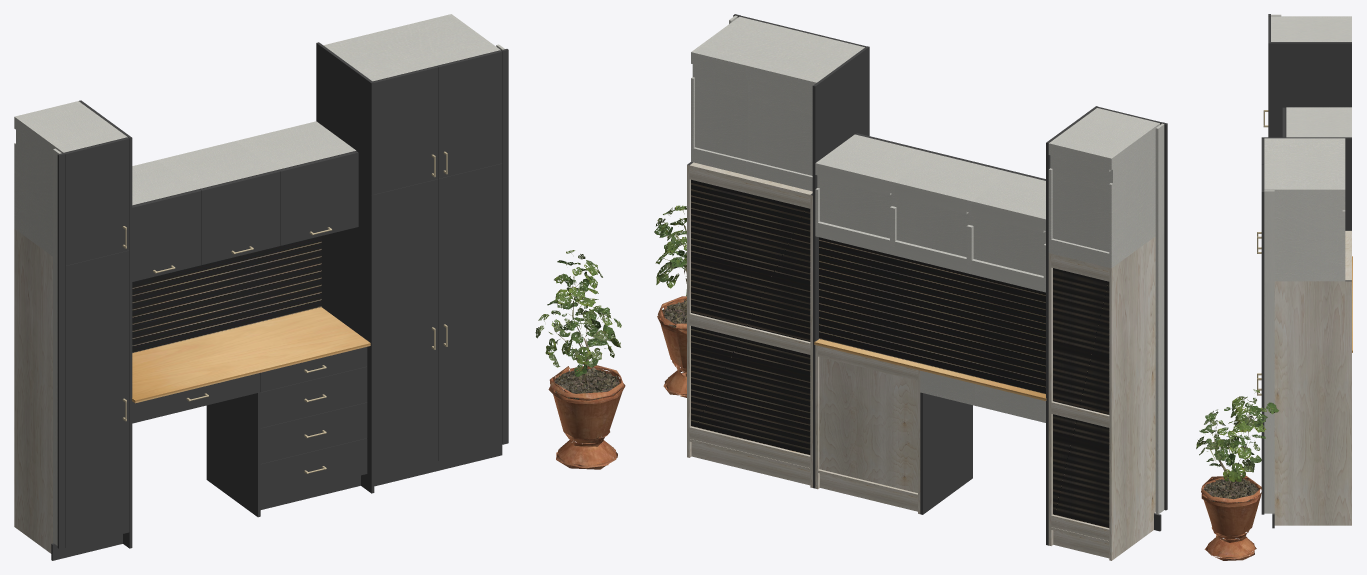
File: garage-cabinet.glb
3 renders of one model, left to right at view 1: azimuth 30°, elevation 25°; view 2: azimuth 150°, elevation 25°; view 3: azimuth 270°, elevation 25°, orthographic. The views are drawn at different scales.
Visible parts, largest first — view 1: garage-cabinet.001, mv_garage-cabinet_005, mv_garage-cabinet_003, mv_garage-cabinet_004, mv_garage-cabinet_001, mv_garage-cabinet_000, mv_garage-cabinet_002, mv_garage-cabinet_007, mv_garage-cabinet_006, mv_garage-cabinet_008, mv_garage-cabinet_009, mv_garage-cabinet_010 (+3 smaller); view 2: garage-cabinet.001; view 3: garage-cabinet.001.
Boxes of the visible parts, x1,y1,x2,y2 form: garage-cabinet.001: [14, 14, 625, 560]; mv_garage-cabinet_005: [65, 250, 129, 547]; mv_garage-cabinet_003: [438, 163, 502, 460]; mv_garage-cabinet_004: [374, 179, 438, 476]; mv_garage-cabinet_001: [373, 66, 438, 194]; mv_garage-cabinet_000: [437, 50, 502, 178]; mv_garage-cabinet_002: [64, 137, 129, 265]; mv_garage-cabinet_007: [200, 170, 280, 264]; mv_garage-cabinet_006: [278, 151, 358, 245]; mv_garage-cabinet_008: [132, 189, 201, 281]; mv_garage-cabinet_009: [260, 438, 367, 499]; mv_garage-cabinet_010: [260, 402, 367, 463]; garage-cabinet.001: [654, 14, 1167, 560]; garage-cabinet.001: [1196, 14, 1352, 560].
Size of the model in its own units: 3.85 by 2.79 by 1.18.
10 materials, 10 textured.
